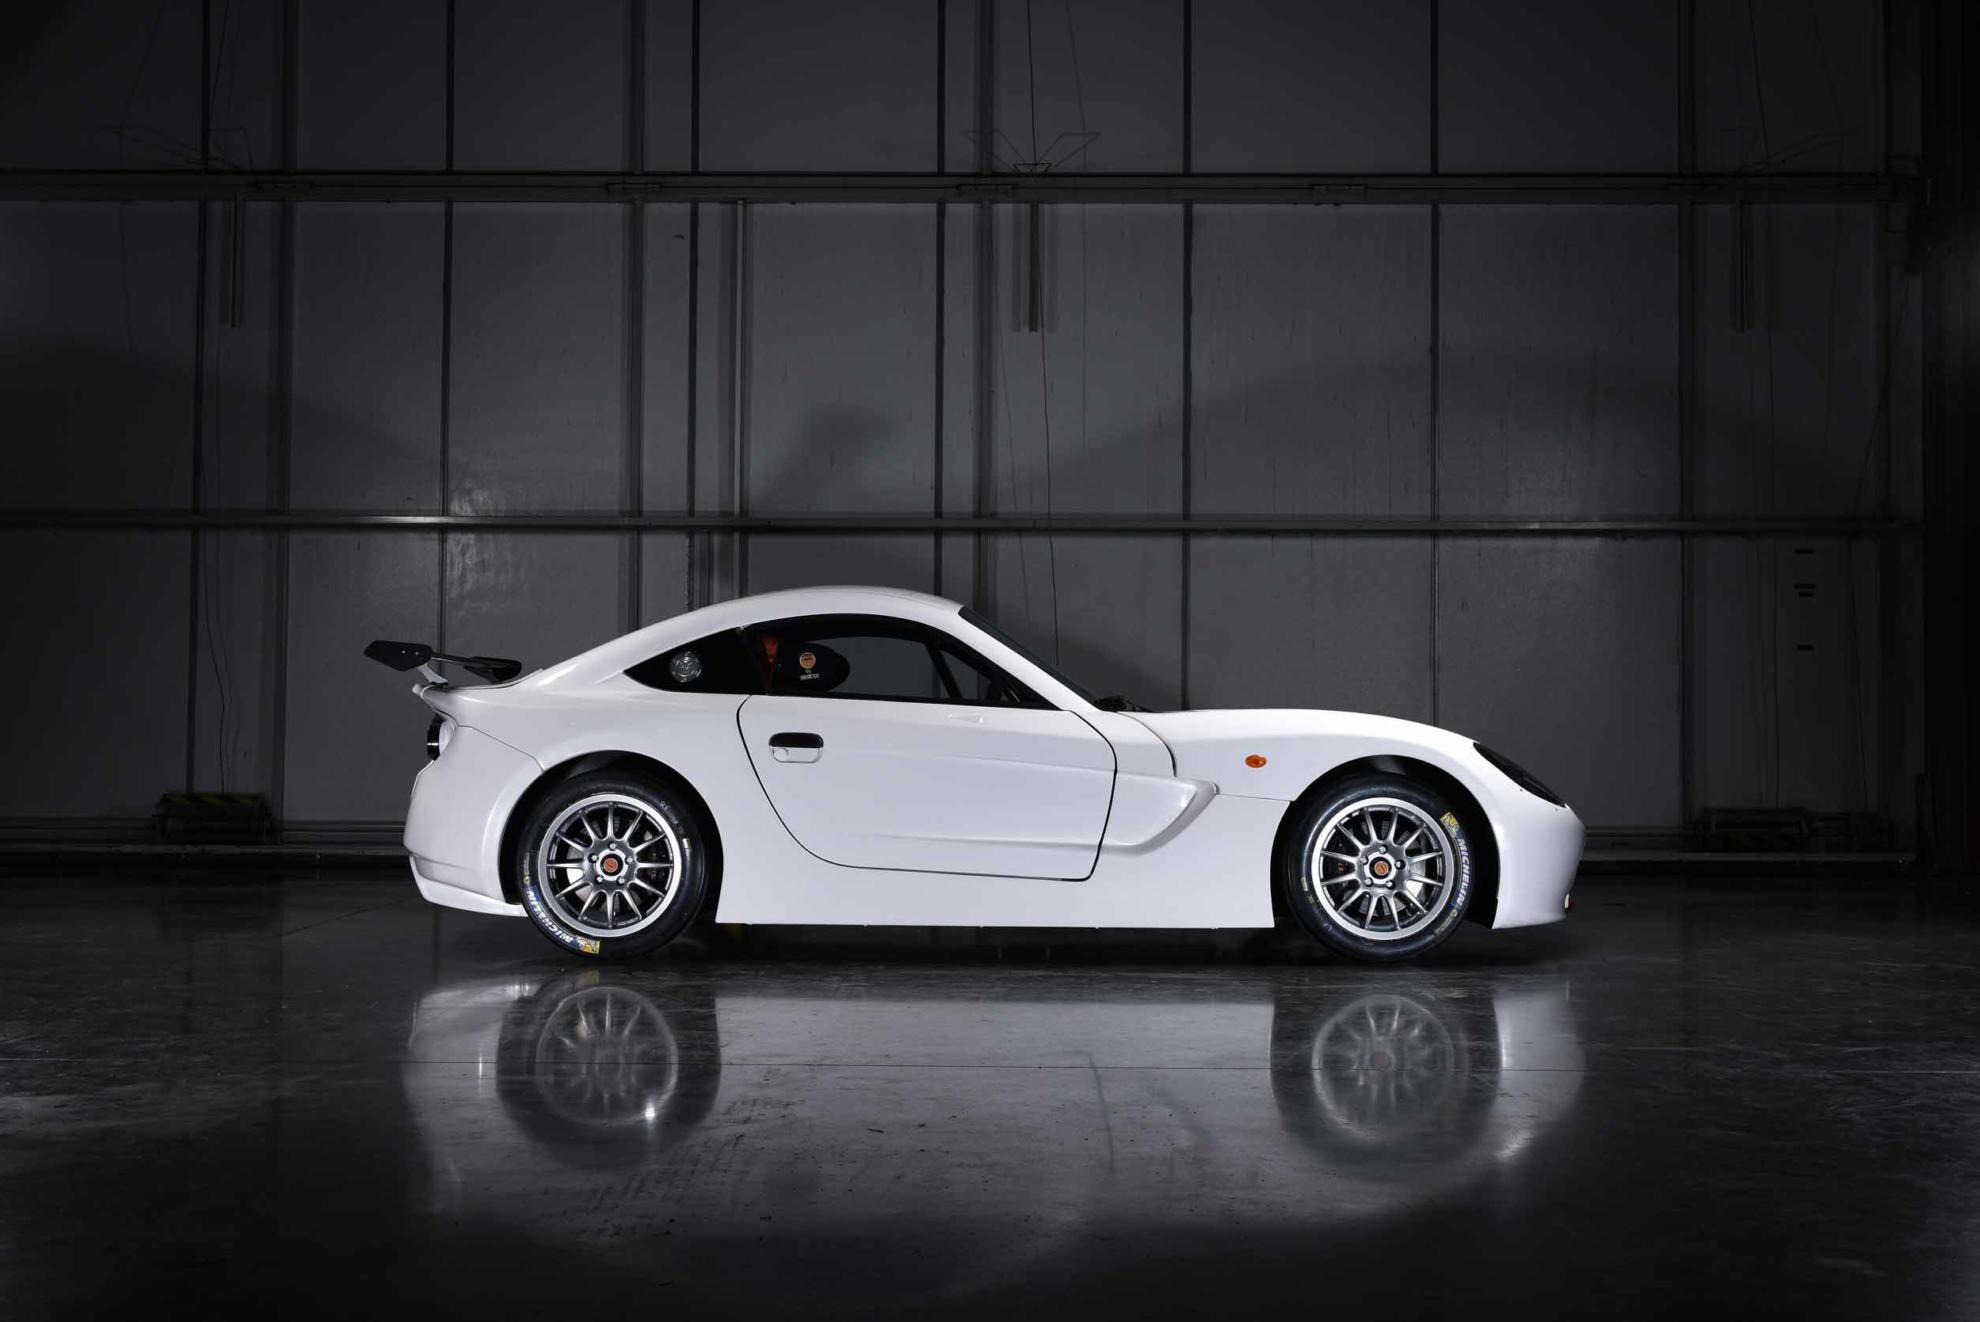mobil: (347, 565, 1596, 966)
